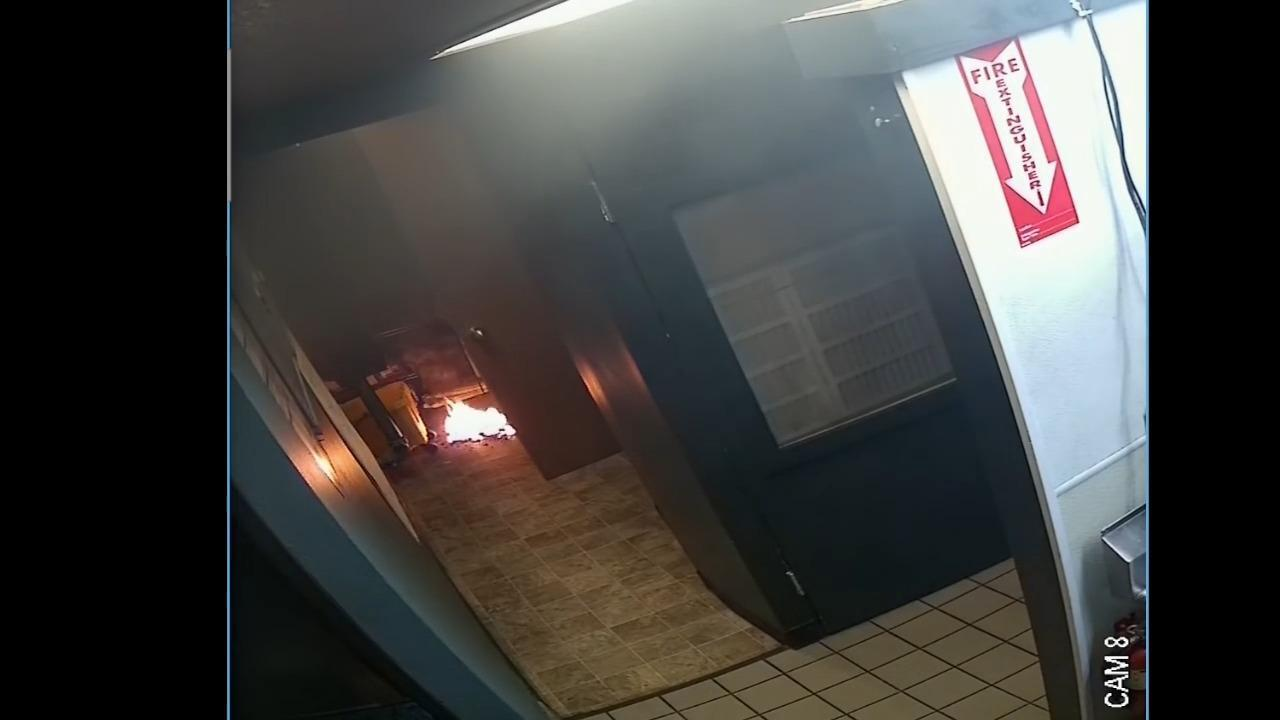fire: (444, 396, 516, 444)
